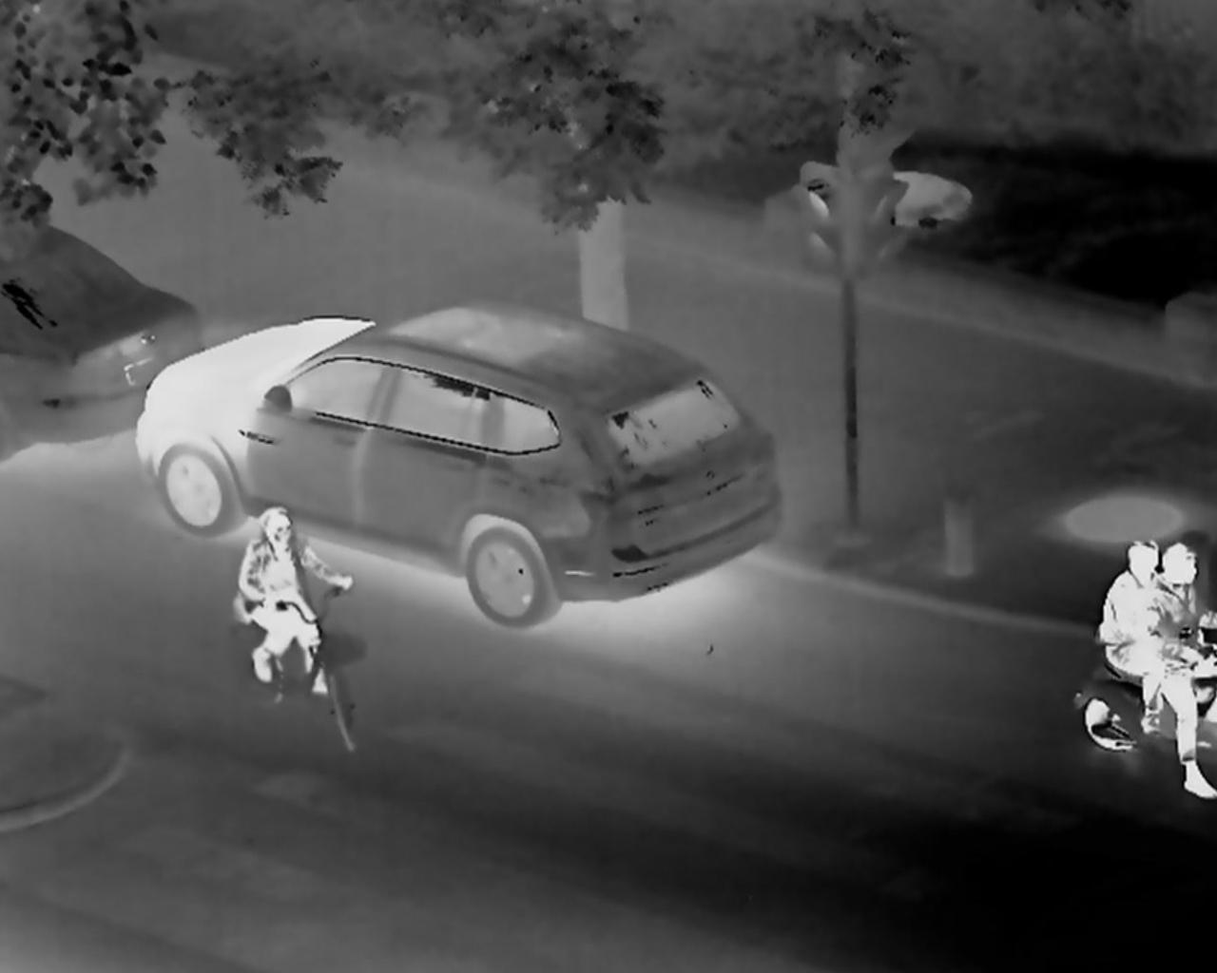person: (227, 500, 350, 699), (1125, 540, 1217, 803), (1095, 529, 1173, 735)
